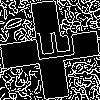E: (25, 25, 76, 65)
